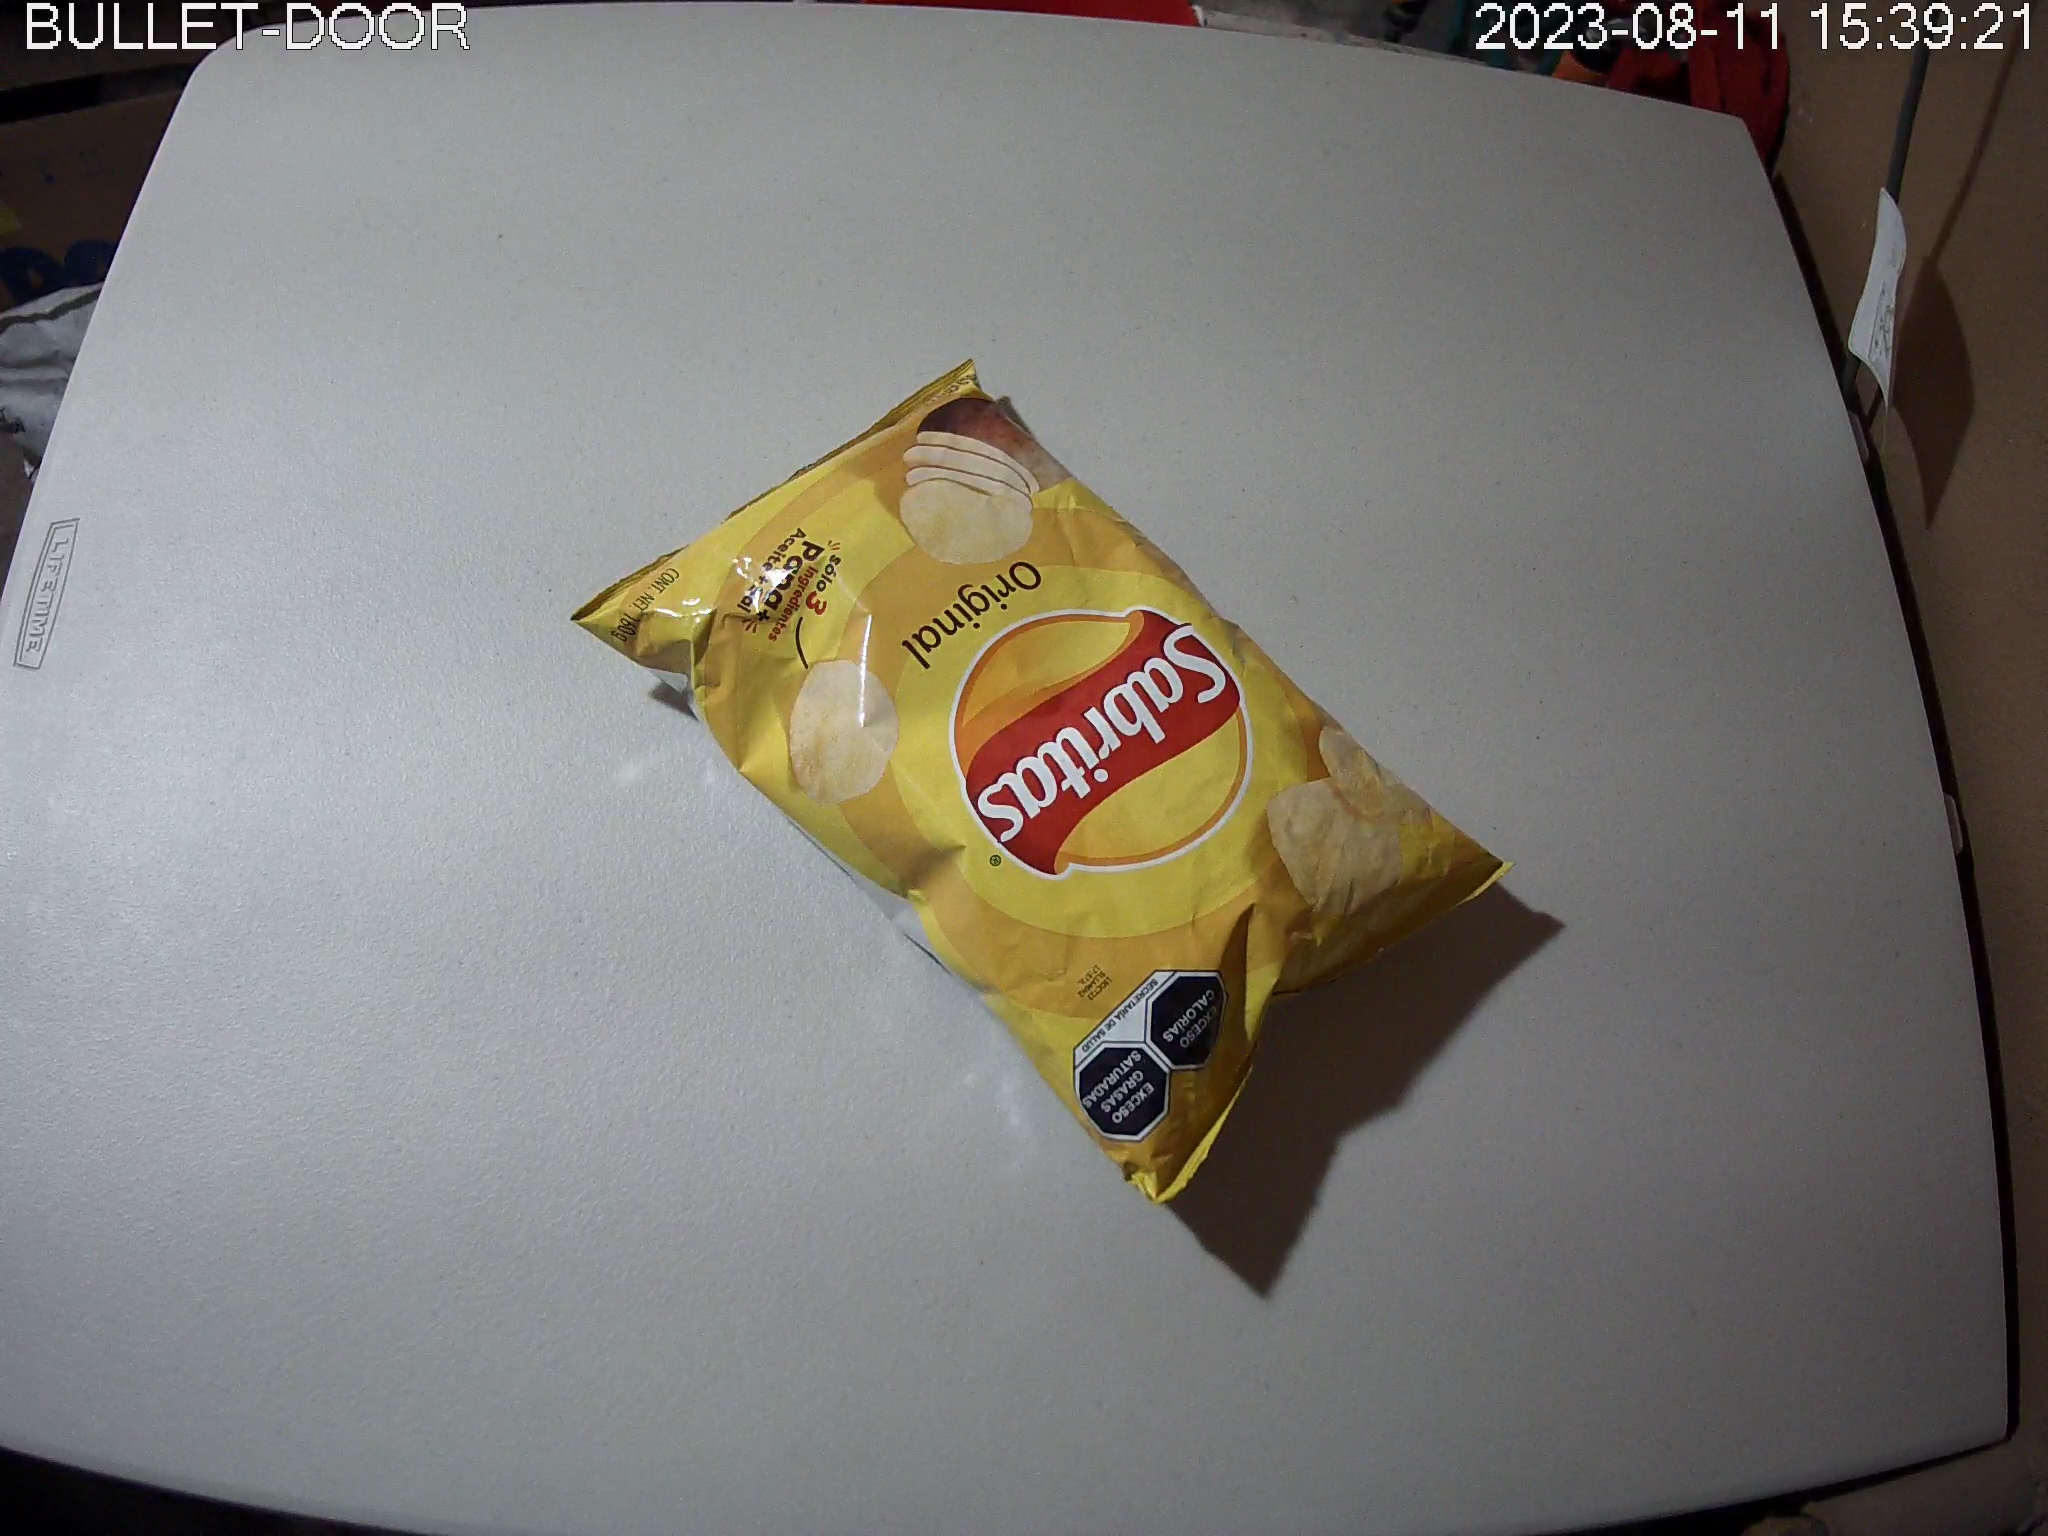Sabritas_160_F: (569, 357, 1516, 1208)
